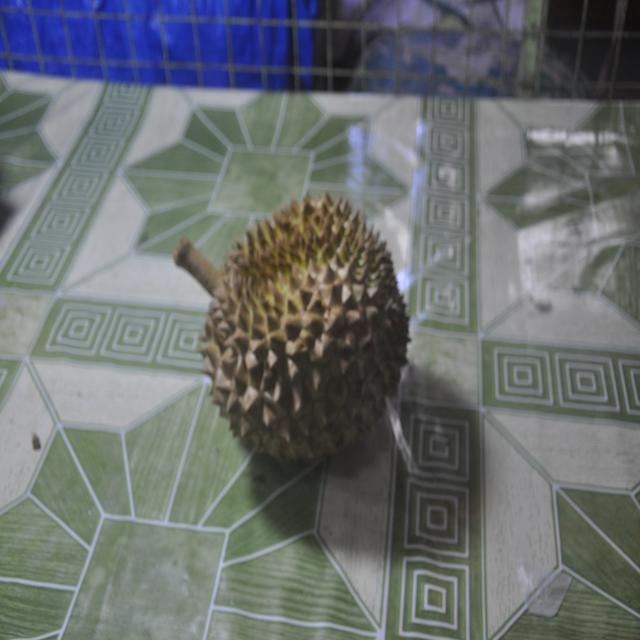mature: (174, 195, 409, 460)
